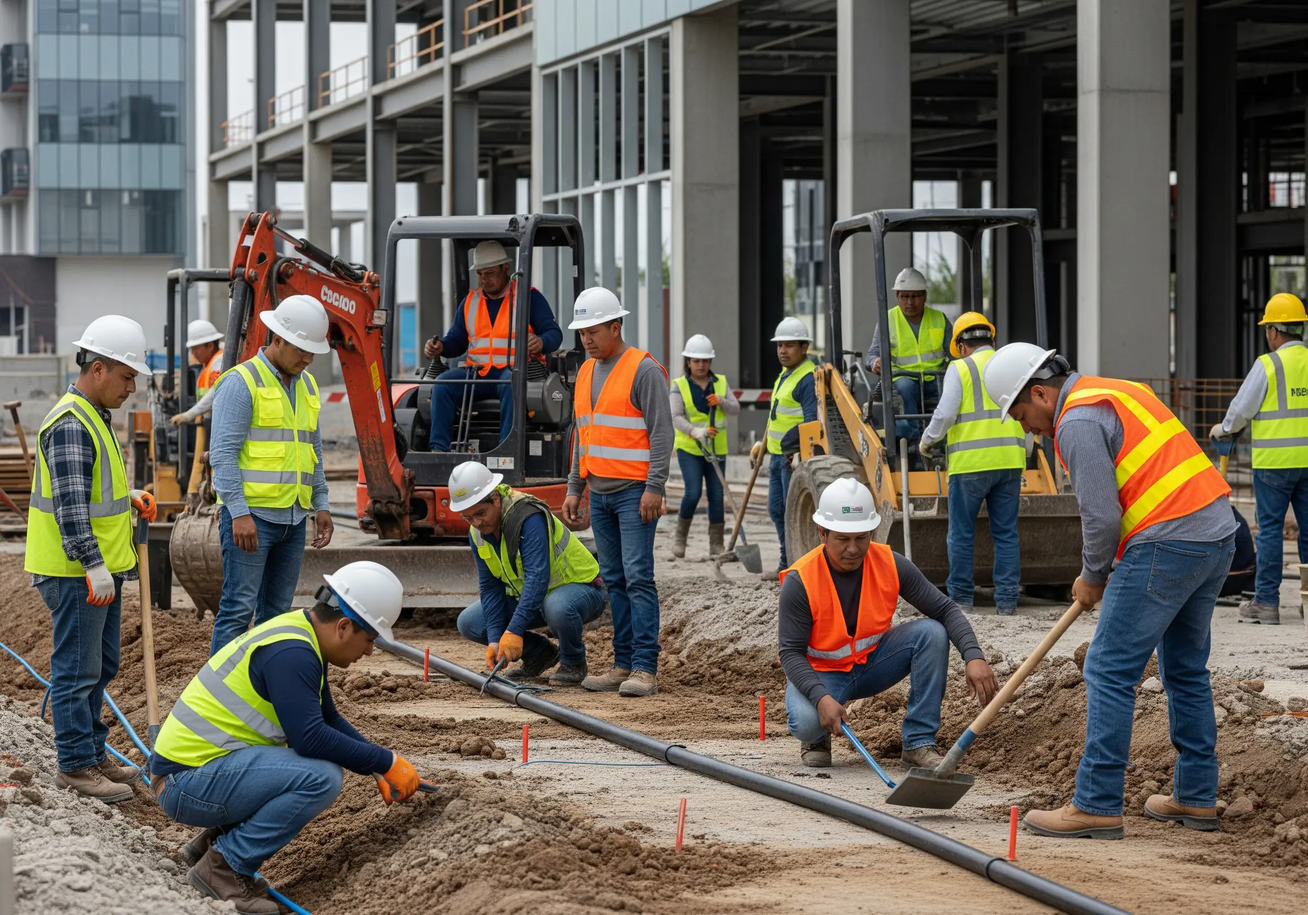Casco de seguridad: (320, 559, 429, 650), (977, 334, 1073, 422), (68, 312, 170, 381), (804, 468, 897, 540), (261, 285, 337, 363), (438, 455, 518, 512), (562, 285, 647, 332), (1255, 278, 1308, 332), (463, 231, 523, 276), (944, 310, 1004, 354), (678, 325, 729, 369), (891, 257, 935, 299), (768, 312, 816, 347), (181, 317, 230, 350)
